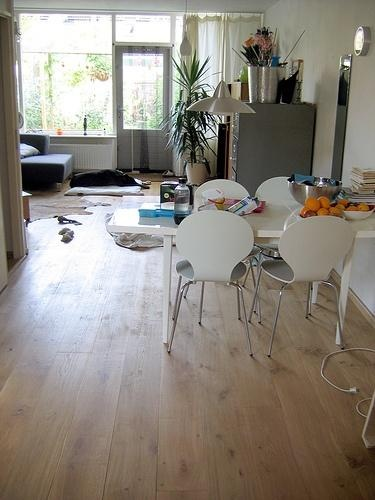chair: (248, 216, 356, 360), (169, 210, 257, 359), (192, 179, 262, 326), (255, 176, 289, 261)
diningtable: (106, 195, 375, 348)
pottedplant: (163, 51, 218, 186)
